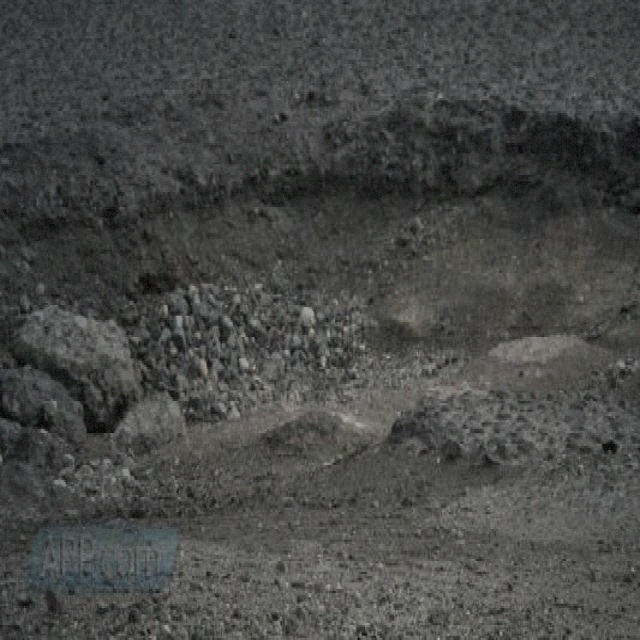pothole: (0, 81, 639, 523)
